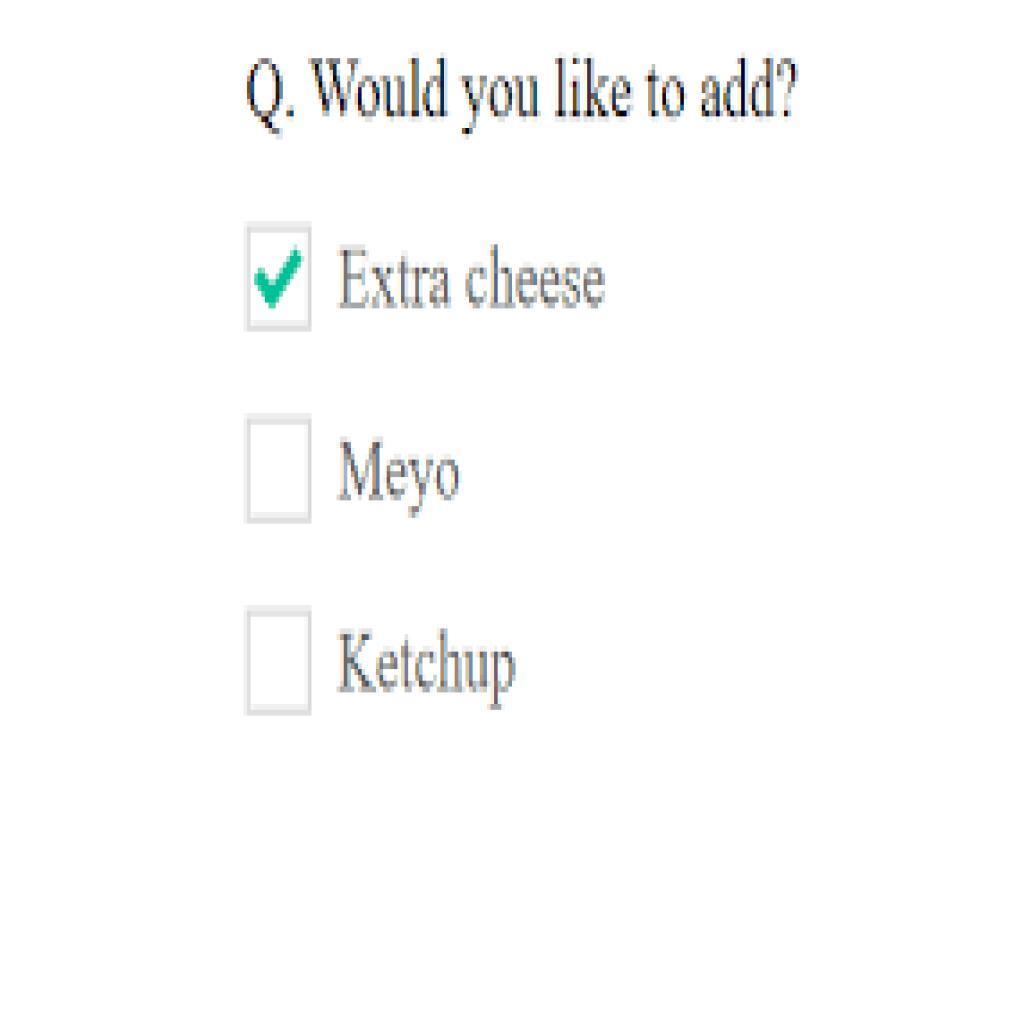checkbox: (249, 416, 313, 523), (245, 232, 312, 327), (249, 612, 312, 713), (236, 592, 239, 594)
label: (241, 44, 812, 150), (337, 243, 615, 324), (337, 621, 526, 709), (335, 433, 466, 520)
